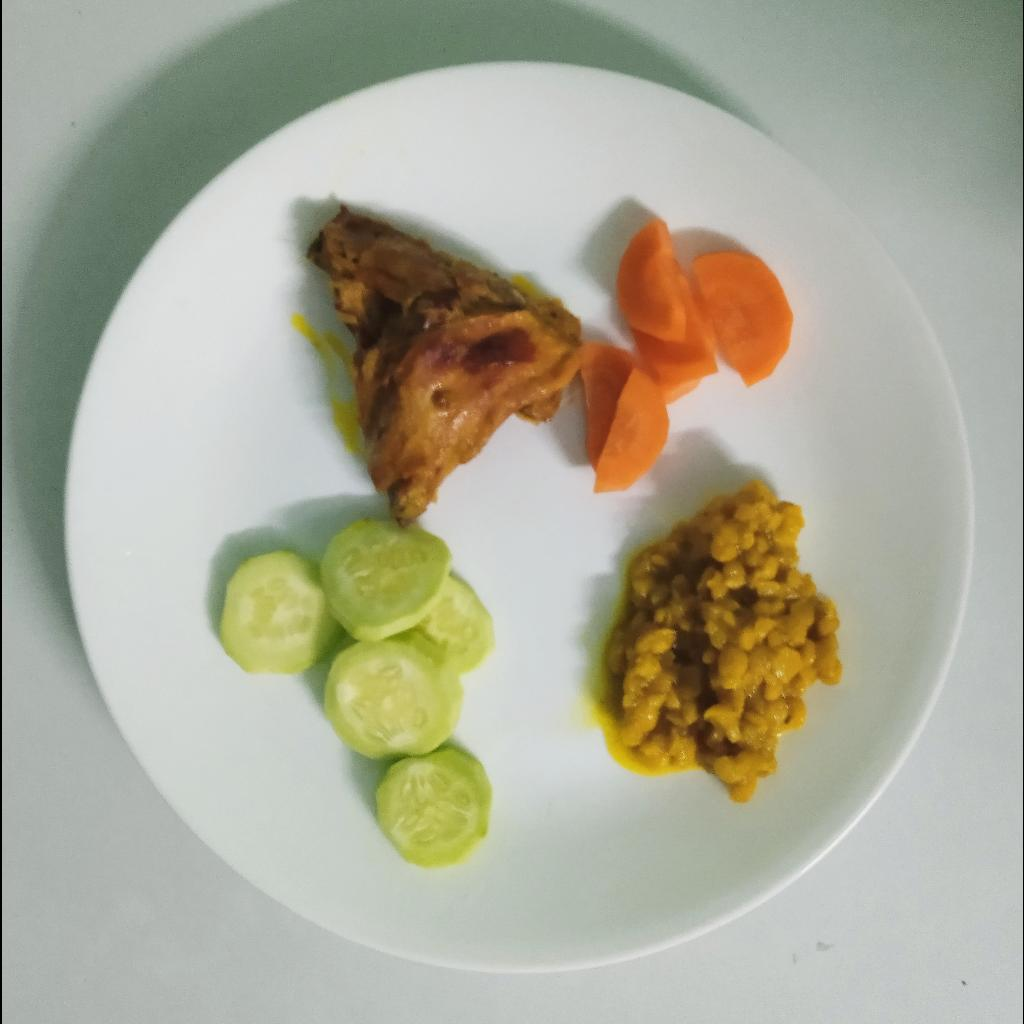carrot: (581, 215, 793, 495)
chicken: (300, 204, 581, 529)
cucumber: (217, 520, 496, 866)
daal: (603, 478, 846, 805)
